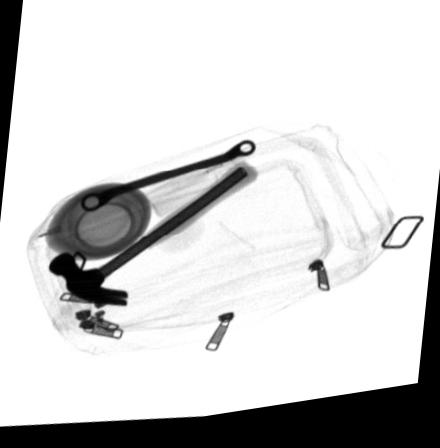Hammer: (47, 168, 259, 309)
Wrench: (80, 147, 255, 214)
